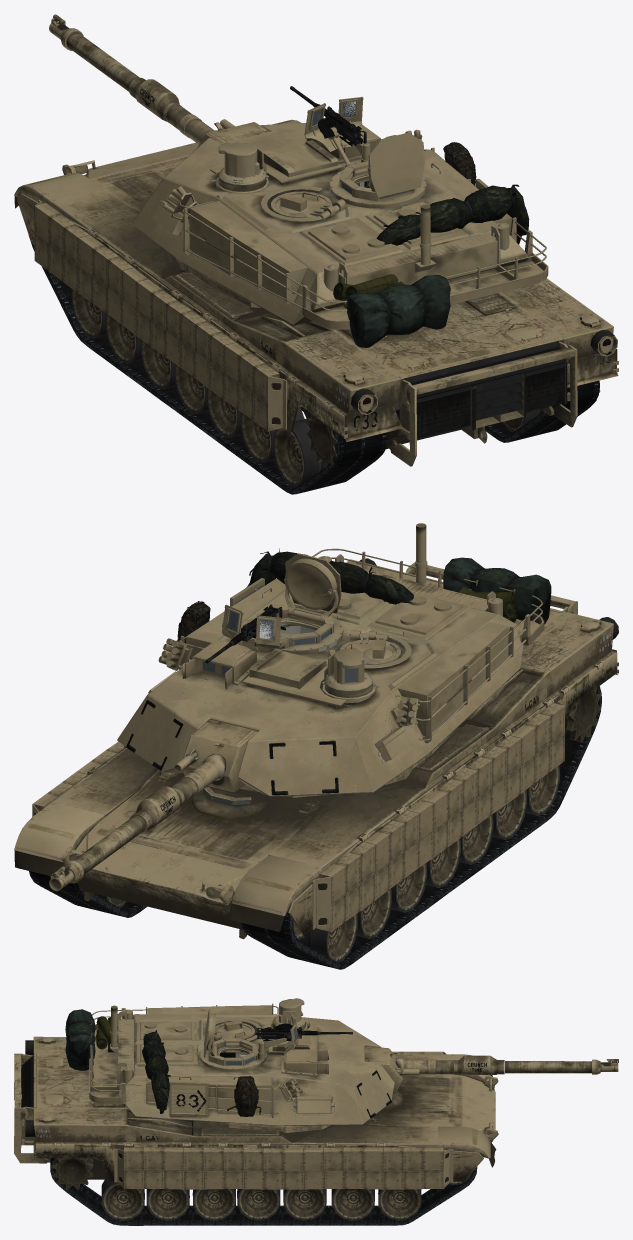
3 renders of one model, top to bottom at view 1: azimuth 30°, elevation 25°; view 2: azimuth 150°, elevation 25°; view 3: azimuth 270°, elevation 25°, orthographic. The views are drawn at different scales.
Visible parts, largest first — view 1: Hull, Turret; view 2: Hull, Turret; view 3: Hull, Turret.
Part boxes in pixels (x1,y1,x2,y2): Hull: [14, 31, 618, 494]; Turret: [49, 14, 610, 431]; Hull: [14, 558, 618, 969]; Turret: [49, 523, 611, 905]; Hull: [14, 1036, 498, 1225]; Turret: [37, 998, 618, 1140].
Bounding box in the file's own units: 3.95 × 3.38 × 10.13.
Materials: 13 (11 with a texture image).
